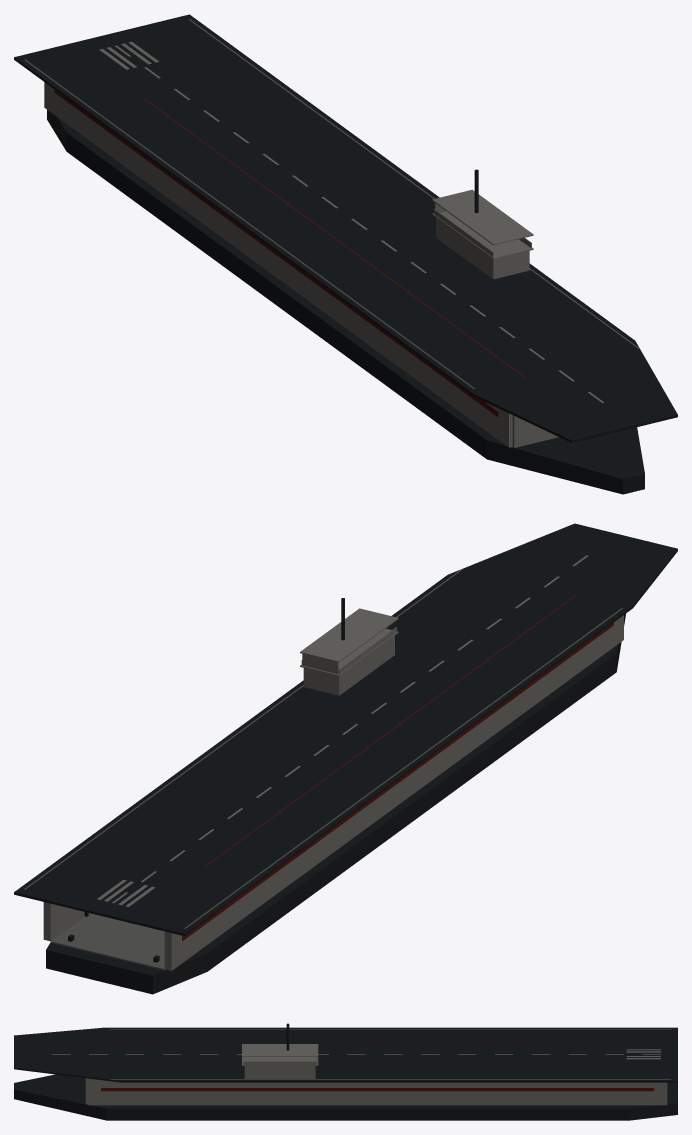
3 views of the same model, one above another, from view 1: azimuth 30°, elevation 25°; view 2: azimuth 150°, elevation 25°; view 3: azimuth 270°, elevation 25° (orthographic). The views are drawn at different scales.
Visible parts, largest first — view 1: carrier-flight-deck-painted, aircraft-carrier-fleet-machine, aircraft-carrier-fleet-armor, aircraft-carrier-fleet-red; view 2: carrier-flight-deck-painted, aircraft-carrier-fleet-armor, aircraft-carrier-fleet-machine, aircraft-carrier-fleet-edge, aircraft-carrier-fleet-red; view 3: carrier-flight-deck-painted, aircraft-carrier-fleet-armor, aircraft-carrier-fleet-machine, aircraft-carrier-fleet-red.
Boxes of the visible parts, x1,y1,x2,y2 form: carrier-flight-deck-painted: [14, 14, 677, 442]; aircraft-carrier-fleet-machine: [47, 110, 644, 494]; aircraft-carrier-fleet-armor: [44, 82, 558, 447]; aircraft-carrier-fleet-red: [54, 90, 498, 417]; carrier-flight-deck-painted: [14, 523, 677, 936]; aircraft-carrier-fleet-armor: [43, 608, 623, 970]; aircraft-carrier-fleet-machine: [46, 598, 625, 994]; aircraft-carrier-fleet-edge: [50, 913, 165, 970]; aircraft-carrier-fleet-red: [182, 622, 613, 941]; carrier-flight-deck-painted: [14, 1027, 677, 1082]; aircraft-carrier-fleet-armor: [85, 1044, 667, 1105]; aircraft-carrier-fleet-machine: [14, 1023, 677, 1120]; aircraft-carrier-fleet-red: [101, 1088, 654, 1091].
Size of the model in its own units: 253 by 205 by 1326.
